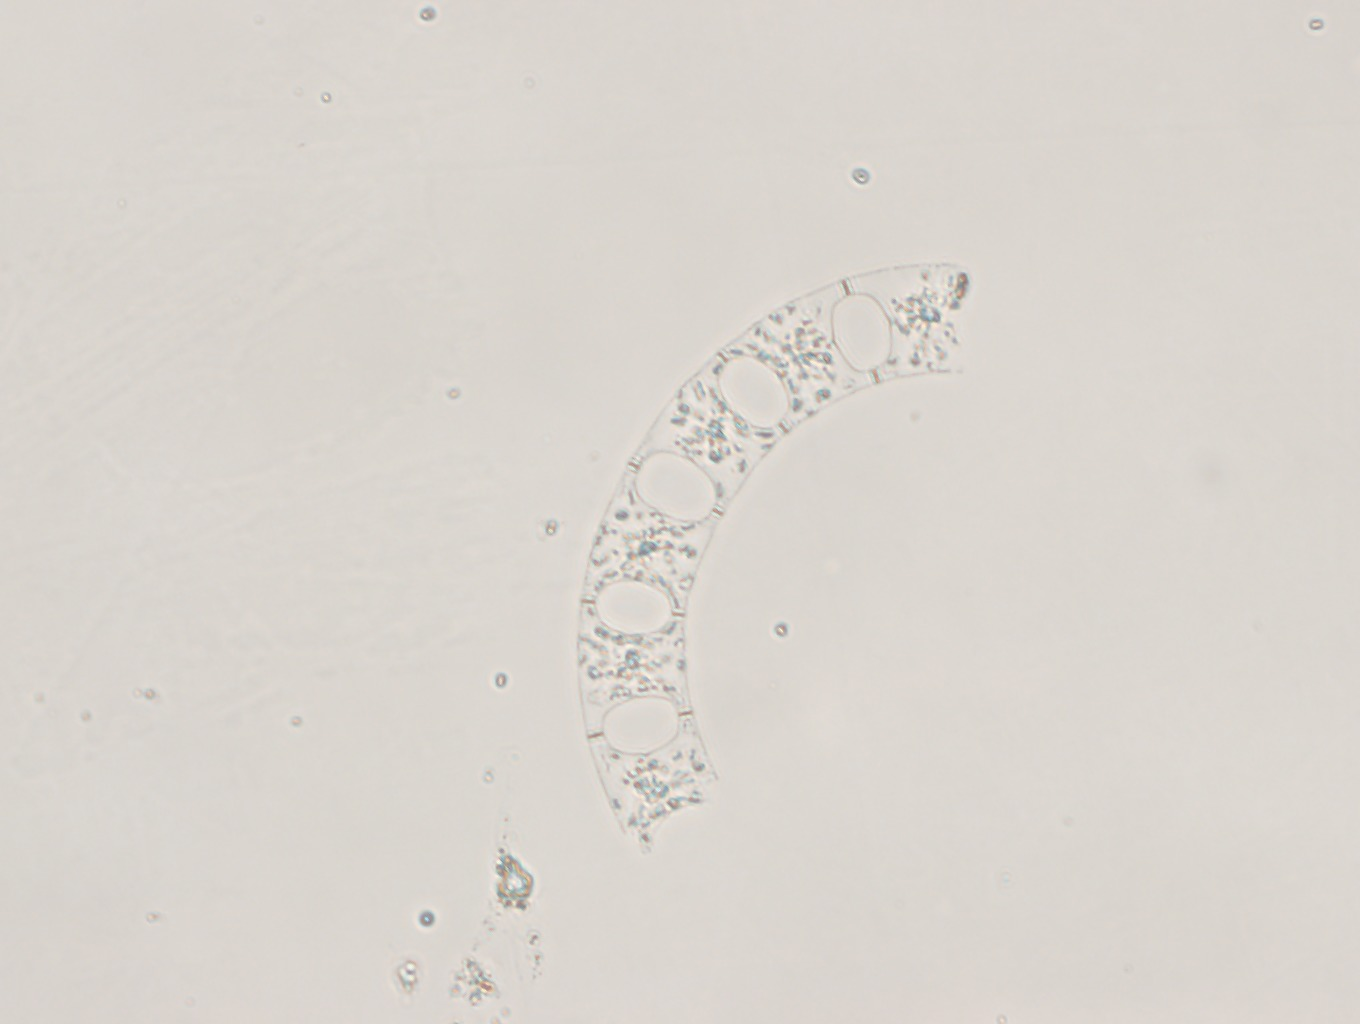eucampia: (577, 258, 980, 852)
